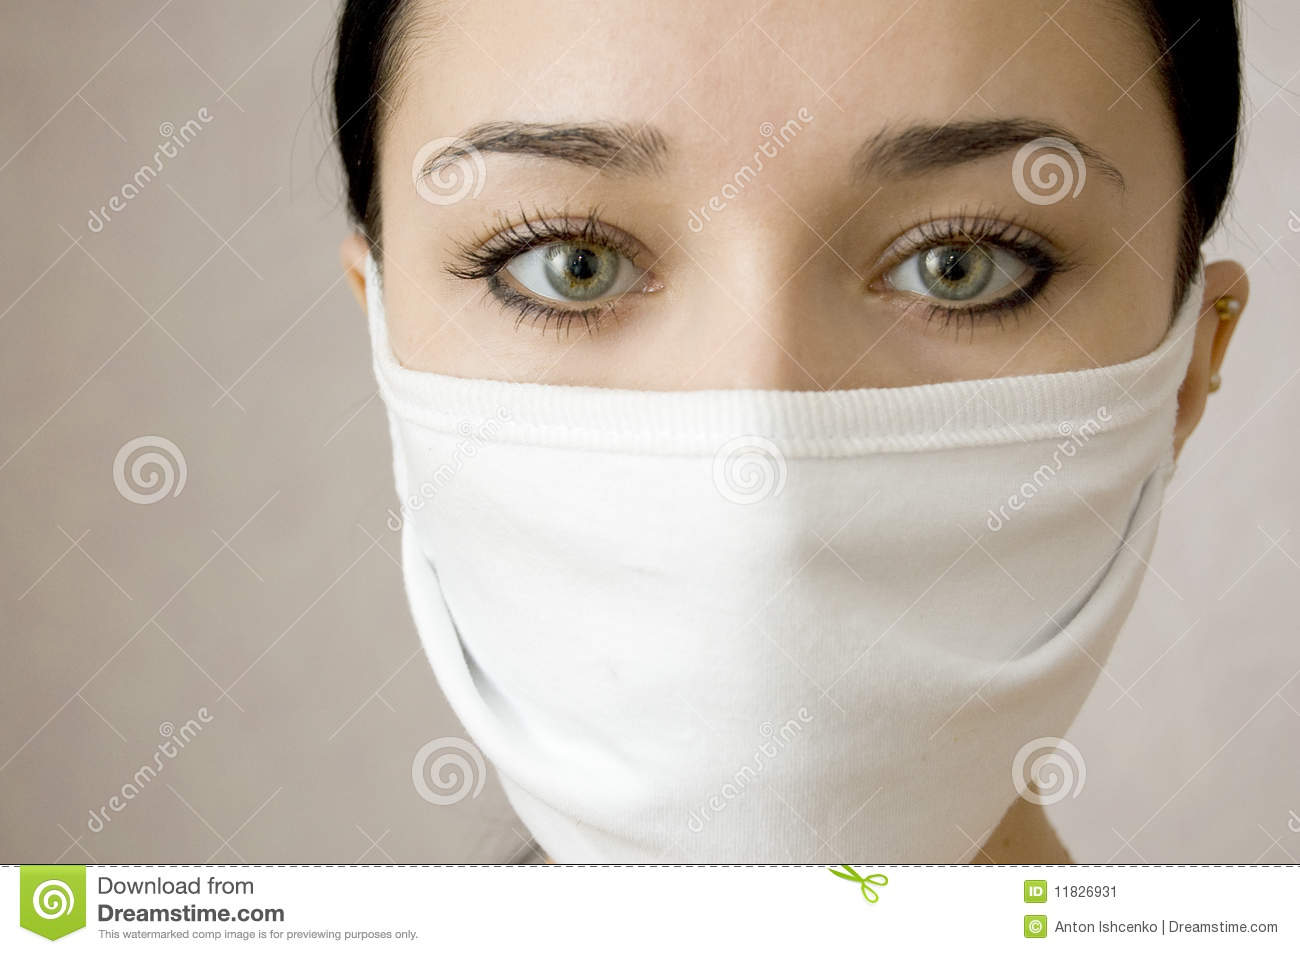mask: (374, 354, 1194, 873)
